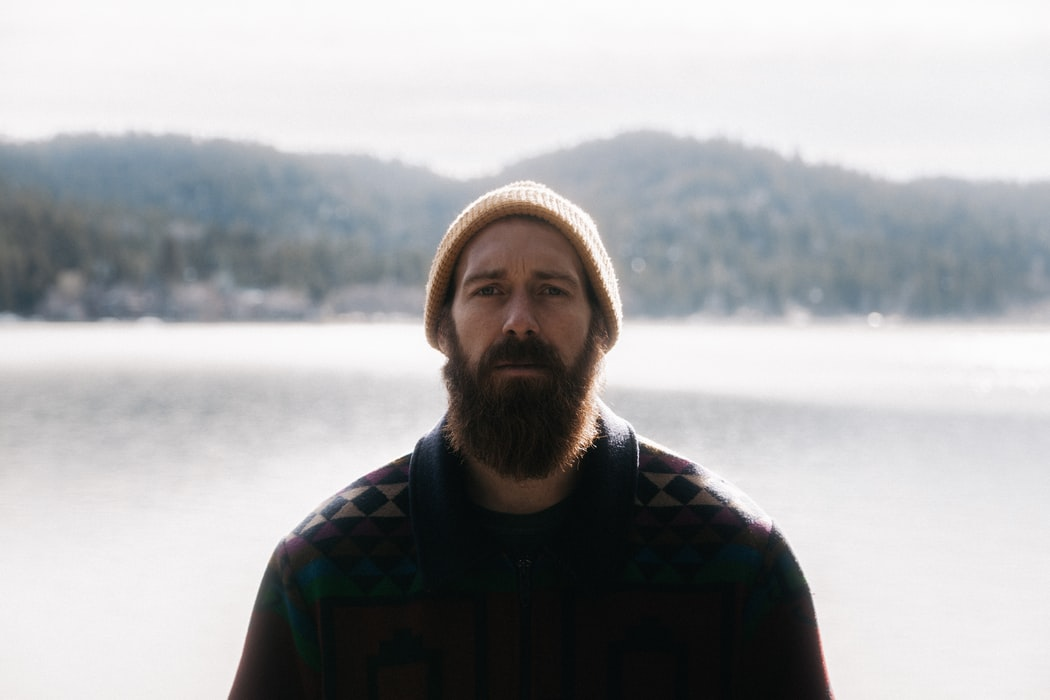beard: (432, 335, 606, 487)
